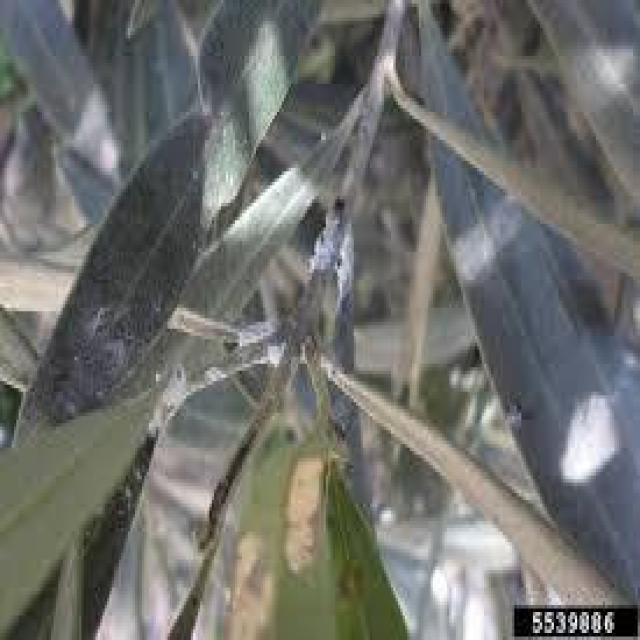Psyllid: (559, 398, 625, 487), (310, 196, 354, 318)
